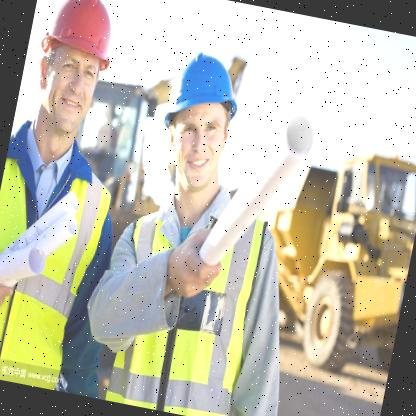capacete: (150, 44, 250, 197), (25, 0, 126, 141)
colete_refletivo: (68, 161, 321, 415), (0, 111, 139, 391)
